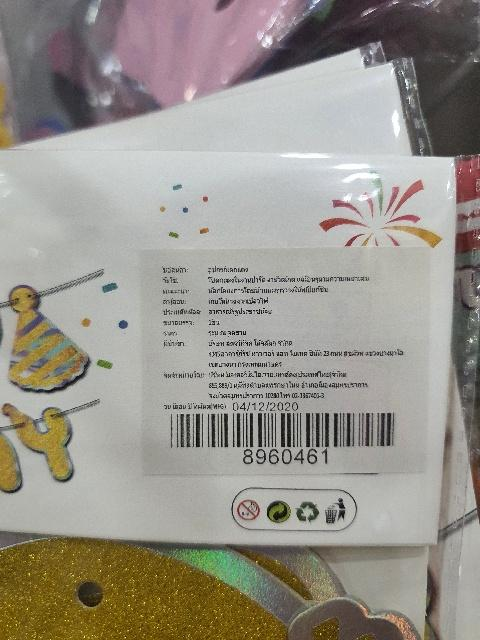Barcode: (157, 411, 406, 465)
